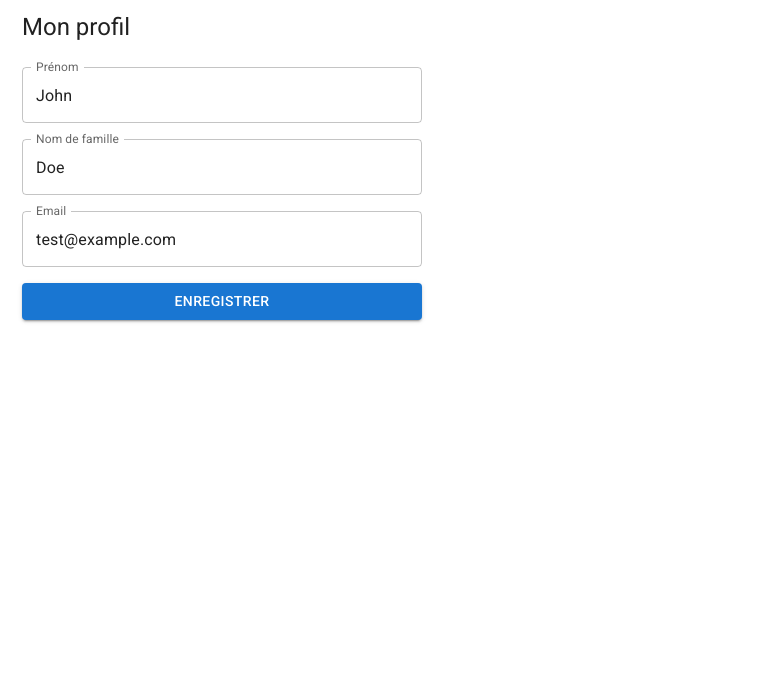
UserProfile › devrait afficher un message d'erreur si la mise à jour échoue
Replace the text in the field labelled "Prénom" with "Jane" at (222, 95), box [22,67,422,123]
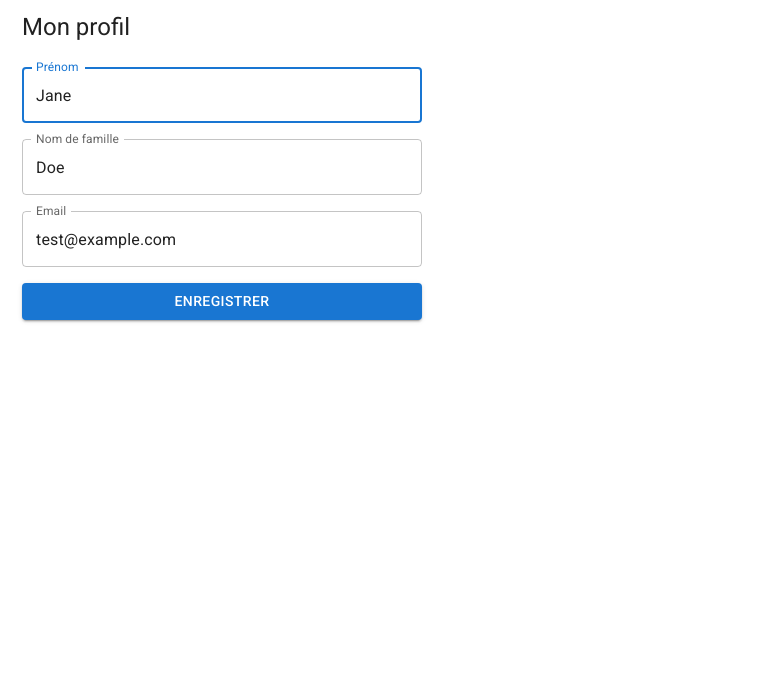
Click the button "Enregistrer" at (222, 301), box [22,283,422,320]
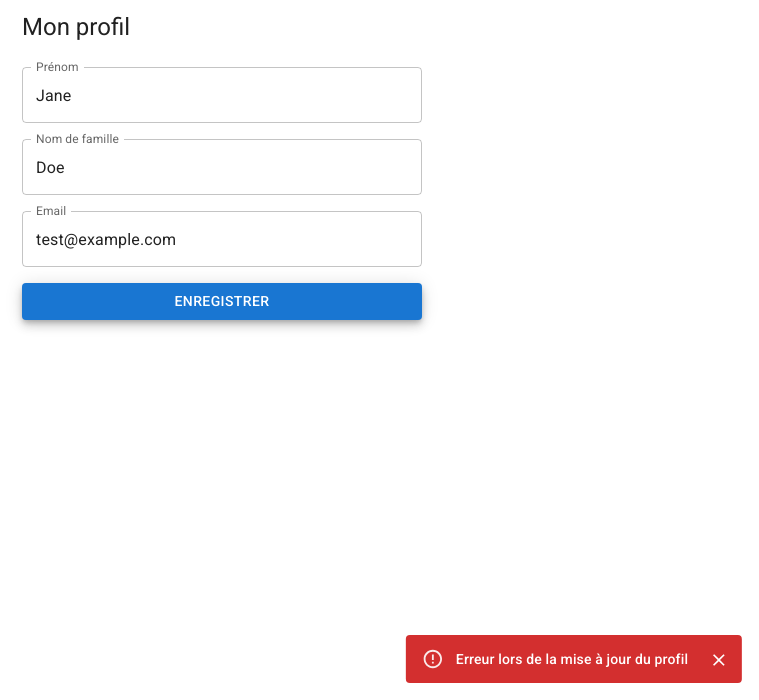
expect the text "Erreur lors de la mise à jour du profil" is shown: met, box [456,651,688,667]
